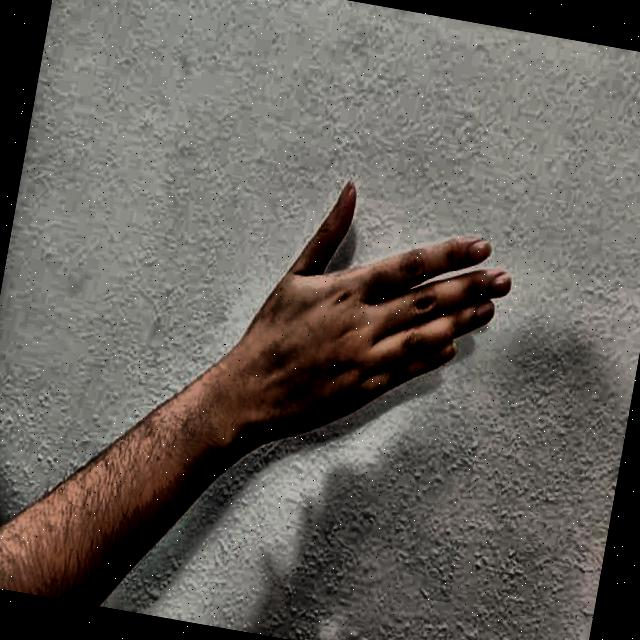Aa: (212, 113, 557, 520)
